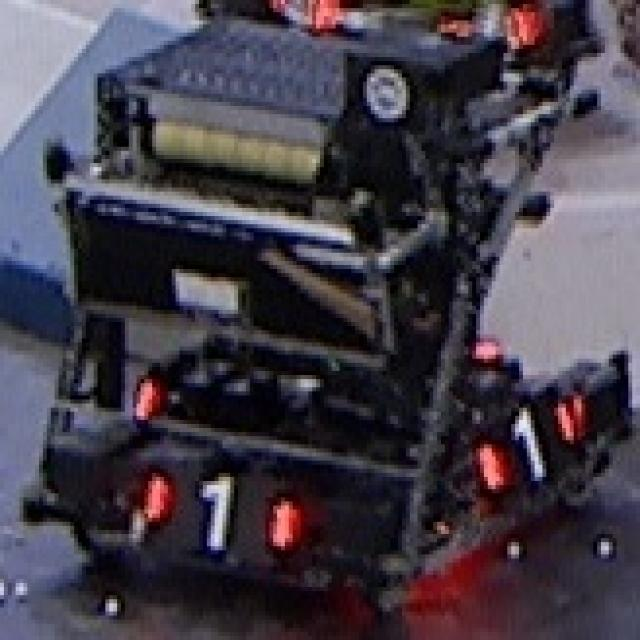R1: (123, 458, 302, 552), (470, 388, 576, 502)
